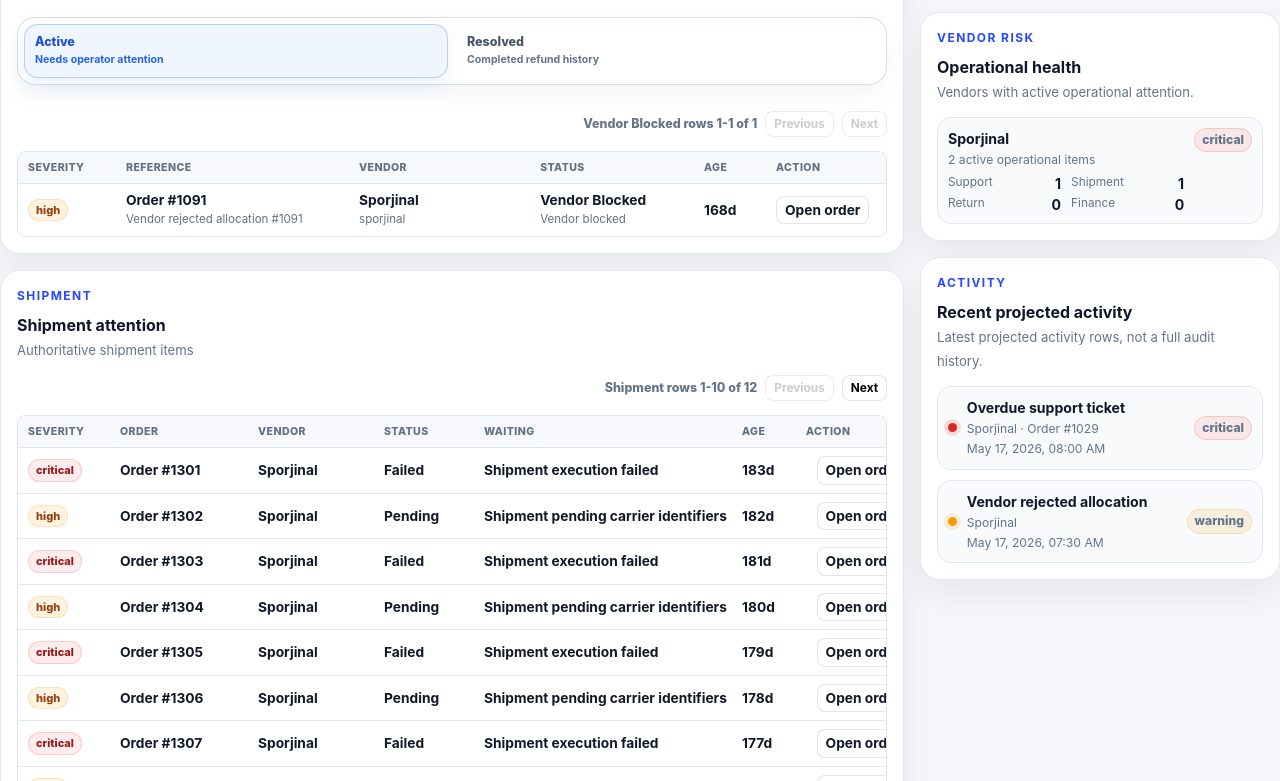
Test: AdminOperationsQueuePage attention center › pages Shipment independently in both directions and disables controls at page boundaries
(page scrolled)
Expected: the text "Shipment rows 1-10 of 12" is shown, [605, 379, 757, 398]
Expected: the button "Previous" next to "12" is disabled, [765, 375, 834, 401]
What coordinates should you click on to do the following:
click the button "Next" in the row of "12"
I would click on:
 (864, 388)
Its box is [842, 375, 887, 401].
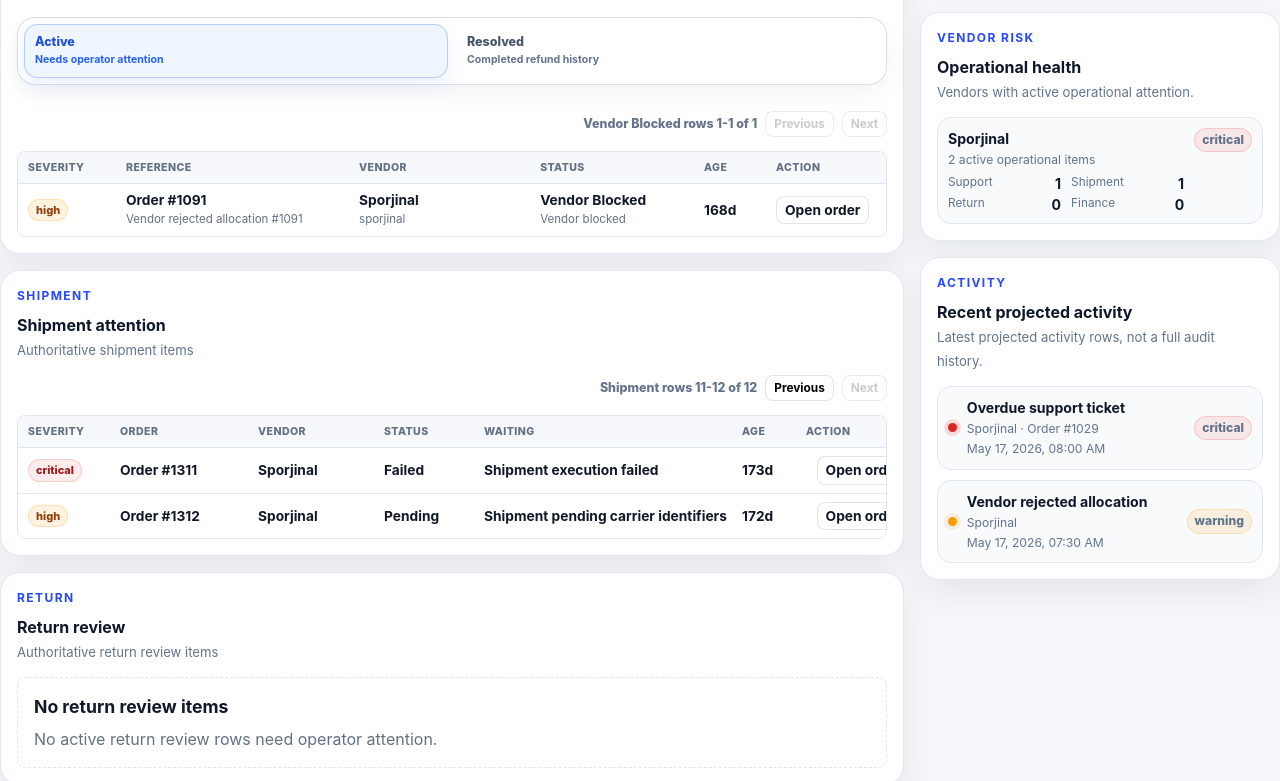
Now the text "Shipment rows 11-12 of 12" is shown, box [600, 379, 757, 398]
Now the text "Order #1311" is shown, box [120, 462, 197, 478]
Now the button "Previous" in the row of "Shipment rows" is enabled
What coordinates should you click on to do the following:
click the button "Previous" in the row of "Shipment rows"
I would click on:
 (800, 388)
Its box is [765, 375, 834, 401].
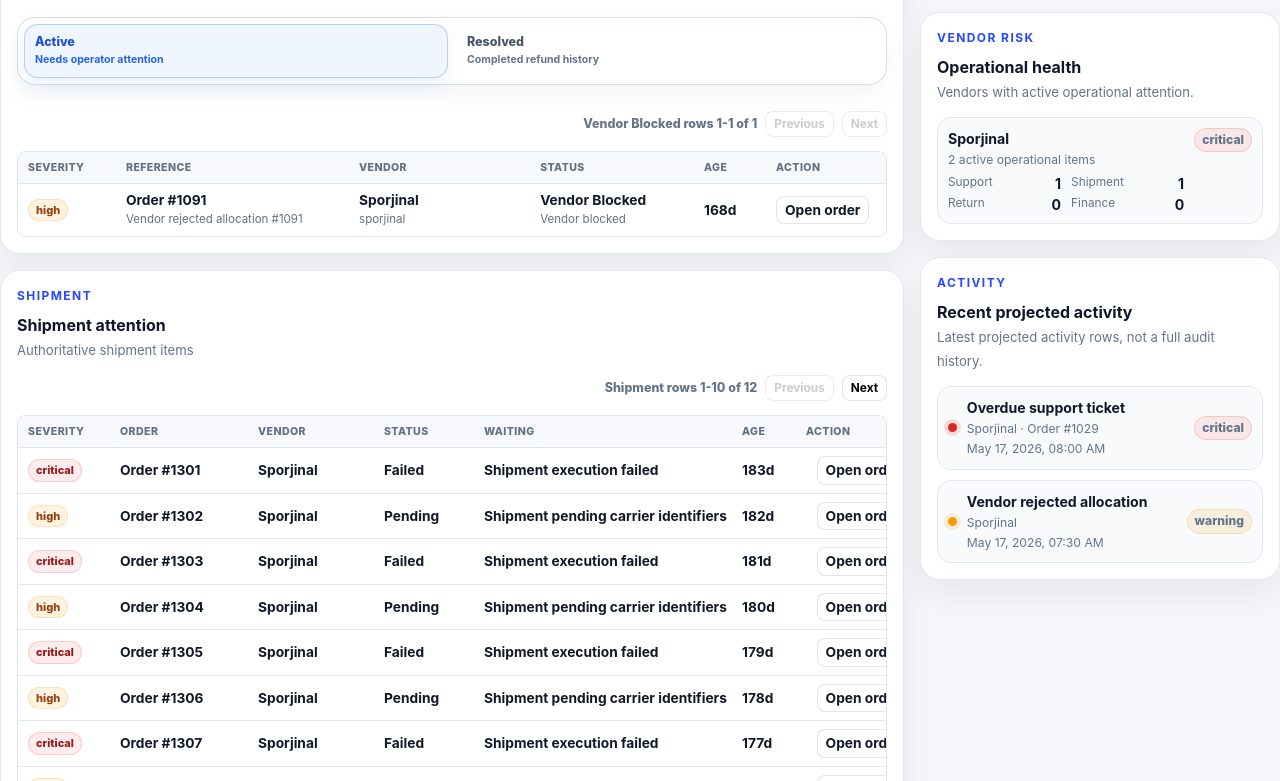
Now the text "Shipment rows 1-10 of 12" is shown, box [605, 379, 757, 398]
